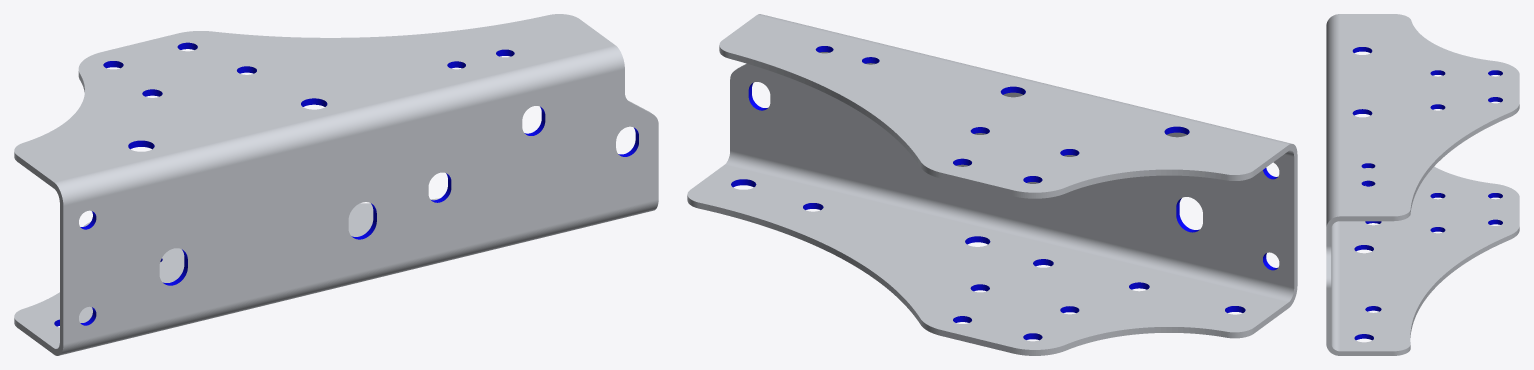
3 renders of one model, left to right at view 1: azimuth 30°, elevation 25°; view 2: azimuth 150°, elevation 25°; view 3: azimuth 270°, elevation 25°, orthographic. The views are drawn at different scales.
Parts seen in each view (by area): view 1: Node1, Node2; view 2: Node1, Node2; view 3: Node1, Node2.
Boxes of the visible parts, box(x1,y1,x2,y2) form: Node1: box(14, 14, 658, 355); Node2: box(54, 42, 638, 326); Node1: box(687, 14, 1297, 355); Node2: box(731, 46, 1277, 340); Node1: box(1326, 14, 1519, 355); Node2: box(1352, 47, 1502, 340).
Size of the model in its own units: 441 by 122 by 168.
